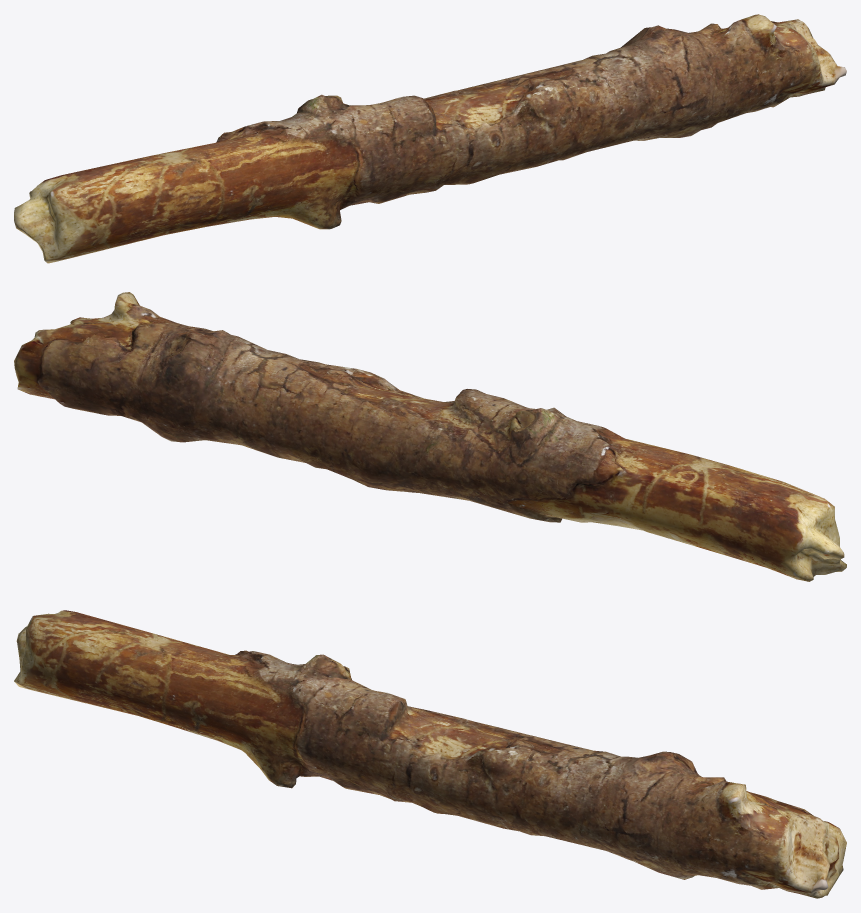
Rendered from lowpoly_stick_-_01.glb.
3 views of the same model, one above another, from view 1: azimuth 30°, elevation 25°; view 2: azimuth 150°, elevation 25°; view 3: azimuth 330°, elevation 25° (orthographic). The views are drawn at different scales.
Visible parts, largest first — view 1: tmp.o.002; view 2: tmp.o.002; view 3: tmp.o.002.
Boxes of the visible parts, left/top/right/bottom form: tmp.o.002: left=14, top=14, right=846, bottom=263; tmp.o.002: left=14, top=292, right=846, bottom=581; tmp.o.002: left=14, top=610, right=846, bottom=898.
Bounding box in the file's own units: 177 × 25.45 × 21.79.
1 material, 1 textured.
